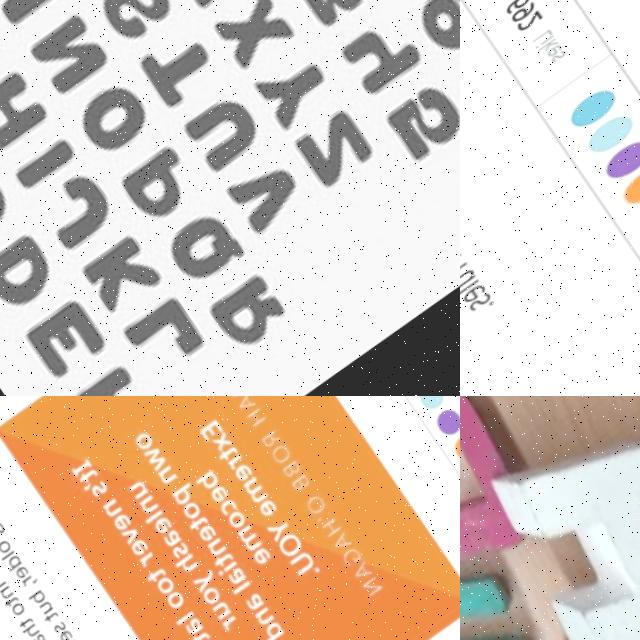2: (499, 0, 531, 21)
3: (286, 0, 370, 36)
4: (335, 21, 420, 105)
5: (381, 86, 460, 173), (506, 4, 538, 31)
9: (410, 0, 460, 68)
A: (234, 397, 255, 418), (350, 566, 371, 587), (160, 532, 180, 552), (182, 620, 201, 640), (225, 570, 244, 590), (243, 596, 262, 616), (330, 537, 349, 557), (28, 631, 46, 640)
B: (194, 473, 218, 497), (281, 464, 301, 484), (289, 478, 309, 498), (25, 590, 46, 609)
C: (217, 501, 235, 520)
D: (256, 623, 282, 640), (1, 554, 22, 574)
E: (460, 285, 485, 309), (198, 422, 222, 446), (126, 539, 148, 560), (256, 501, 276, 523), (207, 488, 228, 508), (111, 515, 130, 535), (151, 518, 170, 538), (195, 527, 214, 547), (250, 551, 269, 571), (231, 467, 250, 486), (543, 46, 563, 64), (11, 565, 28, 583), (54, 629, 72, 640)
G: (339, 552, 360, 573)
H: (463, 396, 640, 640), (173, 556, 197, 579), (319, 522, 340, 543), (244, 412, 264, 432), (18, 623, 39, 640)
I: (69, 461, 90, 481), (532, 37, 555, 54), (215, 564, 236, 581), (0, 580, 5, 593)
K: (535, 41, 558, 60)
L: (528, 32, 553, 53), (460, 281, 477, 302), (173, 614, 192, 630), (143, 513, 161, 528), (230, 585, 249, 598), (0, 551, 12, 562)
M: (460, 512, 600, 640), (235, 528, 261, 557), (241, 480, 267, 509)
N: (135, 496, 158, 519), (251, 610, 273, 633), (100, 500, 121, 522), (204, 539, 225, 561), (156, 468, 175, 488), (361, 582, 380, 602), (0, 584, 13, 602)
O: (460, 396, 554, 621), (274, 534, 303, 564), (268, 446, 292, 470), (162, 590, 185, 615), (223, 511, 246, 536), (153, 577, 176, 601), (197, 588, 220, 611), (303, 498, 326, 521), (132, 433, 153, 456), (179, 503, 200, 526), (7, 601, 24, 619), (0, 539, 11, 557)
P: (170, 486, 196, 510)
R: (259, 433, 279, 453), (219, 619, 236, 636), (137, 554, 154, 571), (226, 458, 242, 473), (19, 576, 32, 589), (460, 264, 467, 285), (225, 396, 245, 403)
S: (464, 293, 491, 317), (168, 545, 189, 564), (88, 482, 107, 502), (547, 54, 566, 69), (50, 621, 66, 637)
T: (75, 469, 97, 489), (144, 568, 165, 588), (186, 517, 207, 537), (211, 554, 232, 574), (216, 448, 237, 468), (0, 595, 17, 610), (15, 617, 31, 632), (40, 612, 56, 626), (187, 632, 209, 640)
U: (287, 554, 315, 582), (211, 603, 231, 625), (127, 483, 146, 503), (460, 271, 474, 293), (36, 601, 52, 617)
V: (119, 527, 138, 547)
W: (141, 447, 167, 476)
X: (210, 436, 229, 456)
Y: (264, 521, 292, 548), (190, 572, 215, 596)
